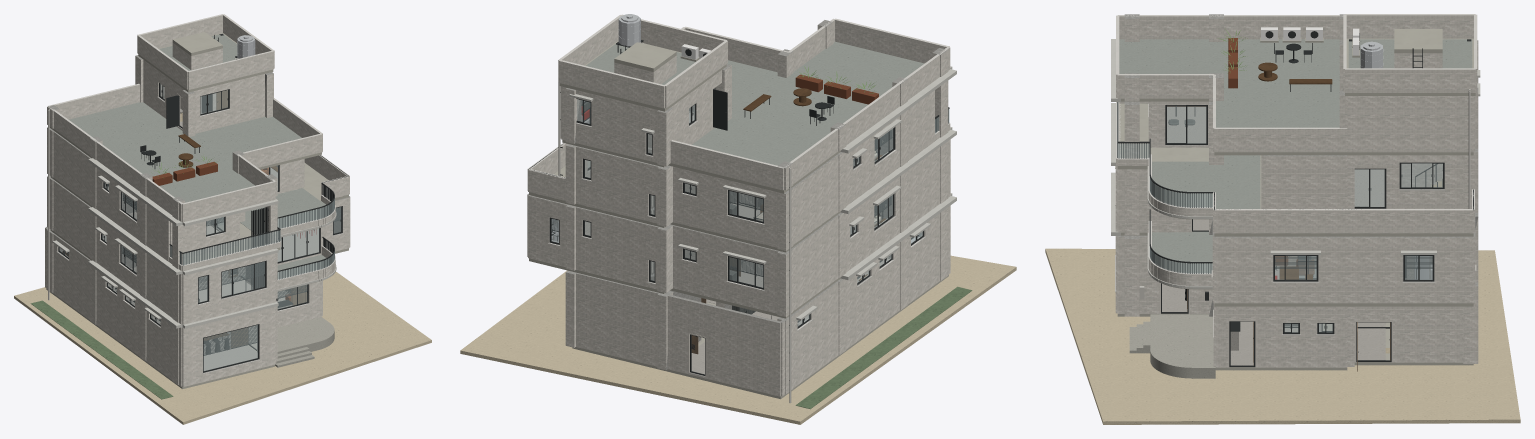
The model's file is industrial.glb.
The picture shows the model from 3 angles, left to right: view 1: azimuth 30°, elevation 25°; view 2: azimuth 150°, elevation 25°; view 3: azimuth 270°, elevation 25°; orthographic projection. The views are drawn at different scales.
Parts seen in each view (by area): view 1: SITE_site_ground, FLOOR_1_wall_facade, FLOOR_4_floor_finish_terrace, FLOOR_2_wall_facade, FLOOR_4_parapet_facade, FLOOR_3_wall_facade, ROOF_parapet_facade, FLOOR_4_wall_facade, FLOOR_3_railing_metal, FLOOR_1_window_glass, SITE_site_porch, FLOOR_4_column_facade (+37 smaller); view 2: FLOOR_1_wall_facade, FLOOR_2_wall_facade, SITE_site_ground, FLOOR_3_wall_facade, FLOOR_4_floor_finish_terrace, FLOOR_4_parapet_facade, ROOF_parapet_facade, FLOOR_4_wall_facade, FLOOR_2_column_facade, FLOOR_1_column_facade, FLOOR_3_column_facade, FLOOR_4_column_facade (+29 smaller); view 3: SITE_site_ground, FLOOR_2_wall_facade, FLOOR_1_wall_facade, FLOOR_4_floor_finish_terrace, FLOOR_3_wall_facade, FLOOR_4_parapet_facade, FLOOR_4_wall_facade, FLOOR_3_parapet_facade, ROOF_parapet_facade, FLOOR_3_floor_finish_terrace, SITE_site_porch, FLOOR_3_slab_slab (+36 smaller).
Part boxes in pixels (x1=…): SITE_site_ground: x1=14, y1=272, x2=431, y2=424; FLOOR_1_wall_facade: x1=45, y1=228, x2=322, y2=386; FLOOR_4_floor_finish_terrace: x1=69, y1=102, x2=301, y2=202; FLOOR_2_wall_facade: x1=53, y1=181, x2=350, y2=324; FLOOR_4_parapet_facade: x1=53, y1=84, x2=322, y2=222; FLOOR_3_wall_facade: x1=53, y1=109, x2=304, y2=261; ROOF_parapet_facade: x1=137, y1=15, x2=274, y2=89; FLOOR_4_wall_facade: x1=143, y1=60, x2=272, y2=133; FLOOR_3_railing_metal: x1=169, y1=155, x2=348, y2=265; FLOOR_1_window_glass: x1=59, y1=248, x2=306, y2=370; SITE_site_porch: x1=249, y1=317, x2=334, y2=367; FLOOR_4_column_facade: x1=47, y1=56, x2=277, y2=220; FLOOR_1_wall_facade: x1=576, y1=205, x2=950, y2=396; FLOOR_2_wall_facade: x1=527, y1=139, x2=950, y2=313; SITE_site_ground: x1=460, y1=255, x2=1016, y2=424; FLOOR_3_wall_facade: x1=576, y1=90, x2=934, y2=247; FLOOR_4_floor_finish_terrace: x1=692, y1=41, x2=924, y2=165; FLOOR_4_parapet_facade: x1=561, y1=20, x2=950, y2=190; ROOF_parapet_facade: x1=558, y1=18, x2=727, y2=108; FLOOR_4_wall_facade: x1=560, y1=70, x2=721, y2=162; FLOOR_2_column_facade: x1=565, y1=141, x2=948, y2=316; FLOOR_1_column_facade: x1=565, y1=207, x2=948, y2=394; FLOOR_3_column_facade: x1=565, y1=81, x2=948, y2=250; FLOOR_4_column_facade: x1=565, y1=22, x2=948, y2=190; SITE_site_ground: x1=1045, y1=248, x2=1520, y2=424; FLOOR_2_wall_facade: x1=1115, y1=166, x2=1475, y2=303; FLOOR_1_wall_facade: x1=1115, y1=236, x2=1463, y2=367; FLOOR_4_floor_finish_terrace: x1=1119, y1=39, x2=1339, y2=127; FLOOR_3_wall_facade: x1=1148, y1=101, x2=1463, y2=208; FLOOR_4_parapet_facade: x1=1116, y1=16, x2=1347, y2=152; FLOOR_4_wall_facade: x1=1345, y1=96, x2=1475, y2=152; FLOOR_3_parapet_facade: x1=1116, y1=101, x2=1474, y2=233; ROOF_parapet_facade: x1=1343, y1=15, x2=1477, y2=92; FLOOR_3_floor_finish_terrace: x1=1152, y1=155, x2=1260, y2=208; SITE_site_porch: x1=1129, y1=314, x2=1215, y2=378; FLOOR_3_slab_slab: x1=1117, y1=103, x2=1473, y2=236.
Size of the model in its own units: 19.1 by 16.92 by 22.2.
Materials: 47 (24 with a texture image).
